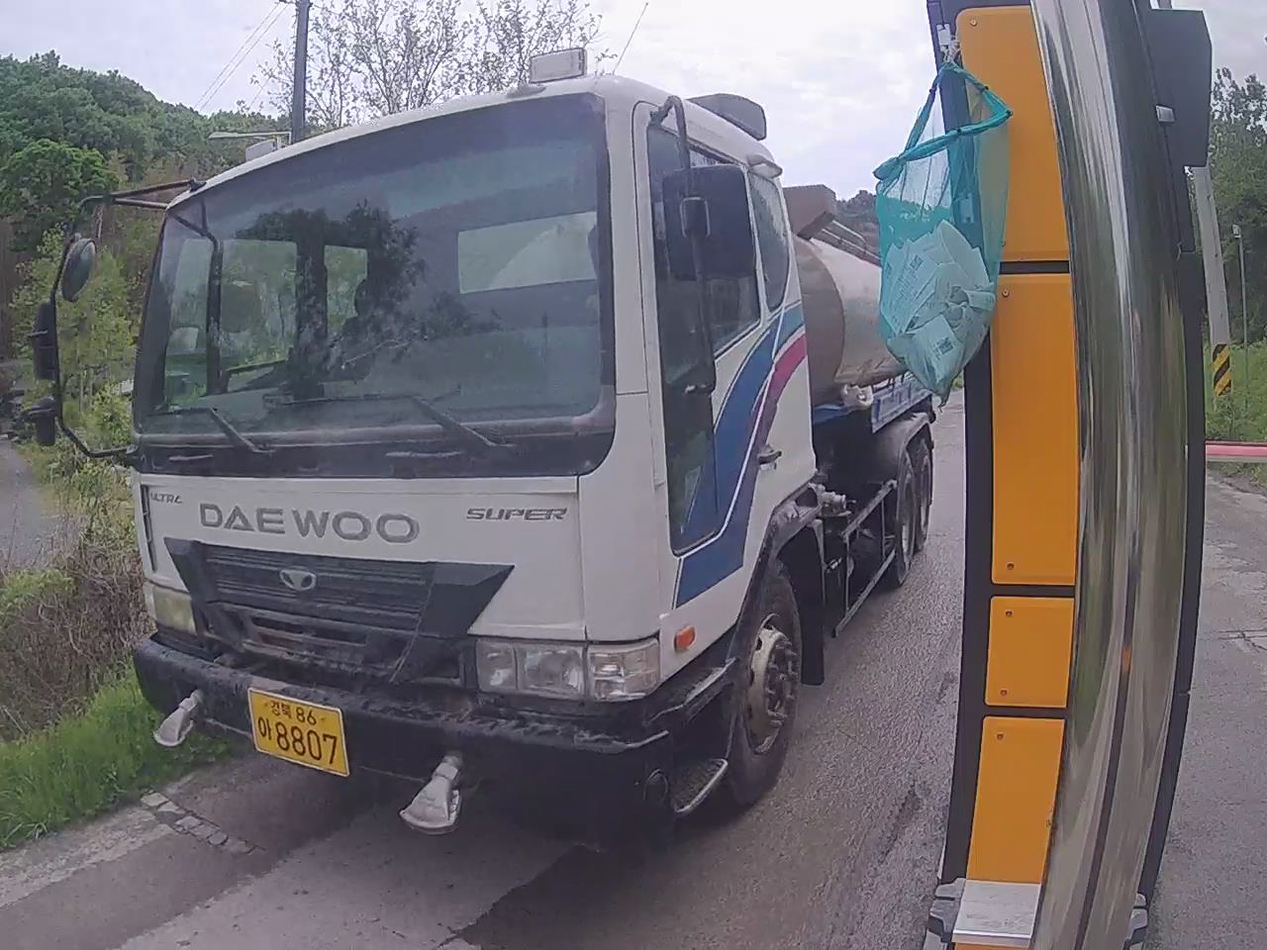license_plate: (250, 690, 349, 776)
truck: (104, 54, 933, 842)
